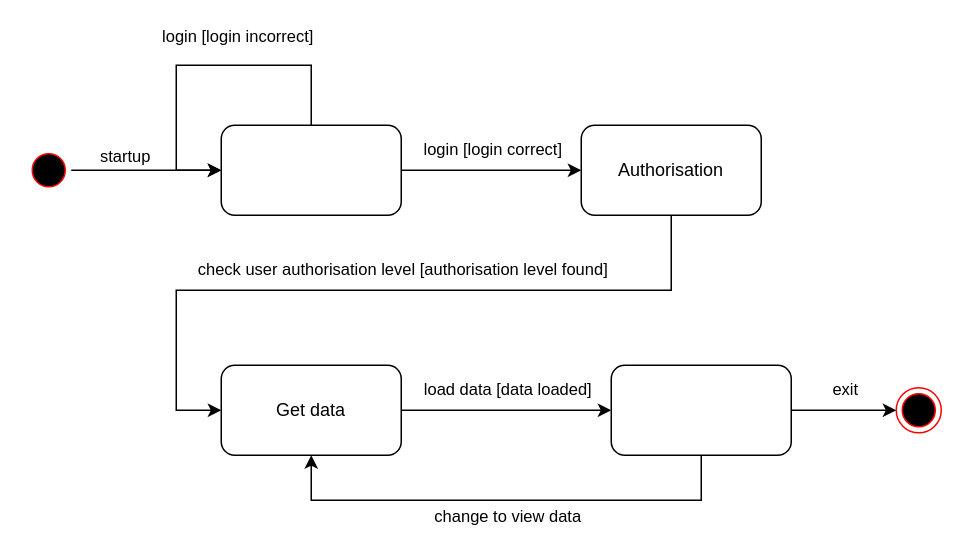
Some shapes in this 968 by 551 pixel diagram are drawn without their labels. The centre of each missing label's shape, as x and y in pixels:
Login: point 310,169
View digital twin: point 700,409
